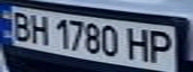0: (100, 22, 124, 58)
1: (48, 16, 72, 50)
7: (66, 18, 84, 52)
8: (81, 20, 103, 55)
B: (6, 8, 36, 42)
H: (124, 25, 154, 62), (24, 11, 51, 46)
P: (145, 28, 178, 64)
